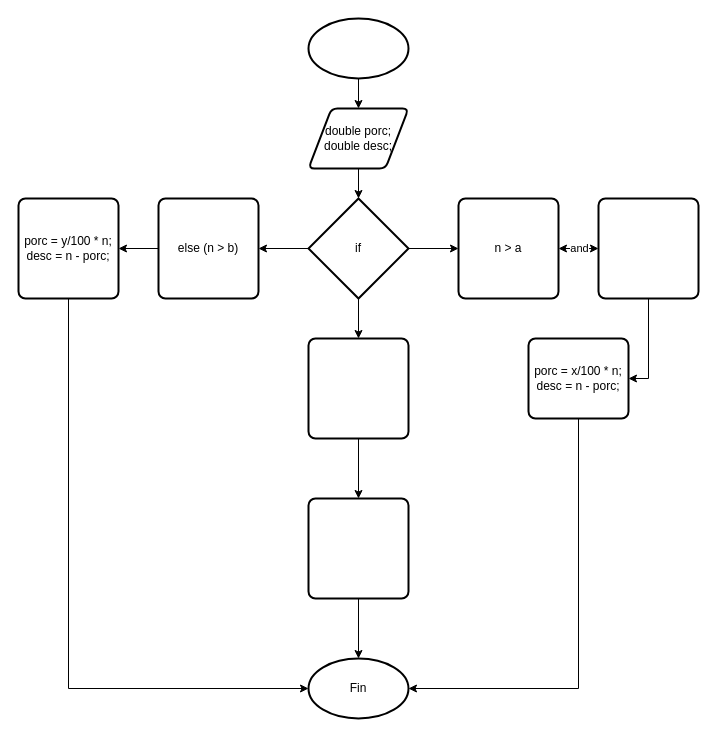
This 716x736 diagram has some shape labels left out. Here are the shapes that lost their labels. From the top down, the centre of each, then its label:
At (358,48): "Inicio".
At (648,248): "n < b".
At (358,388): "else desc = n;".
At (358,548): "cout << desc << endl;".
